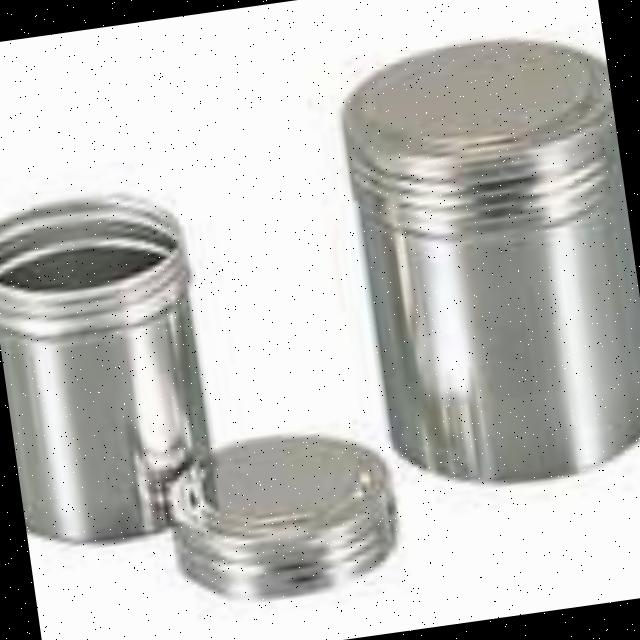Metal: (328, 16, 640, 501), (0, 181, 221, 552), (160, 417, 410, 616), (599, 16, 640, 463)
